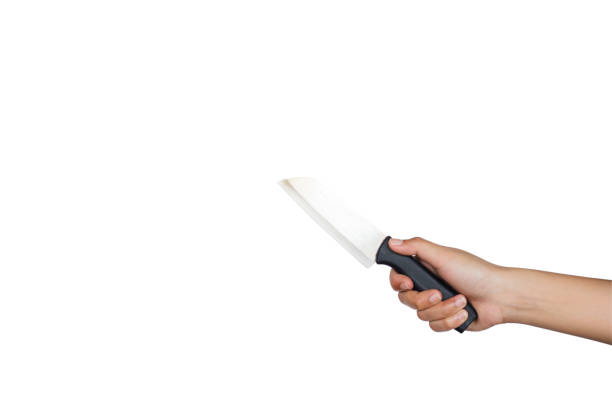knife: (275, 174, 481, 336)
